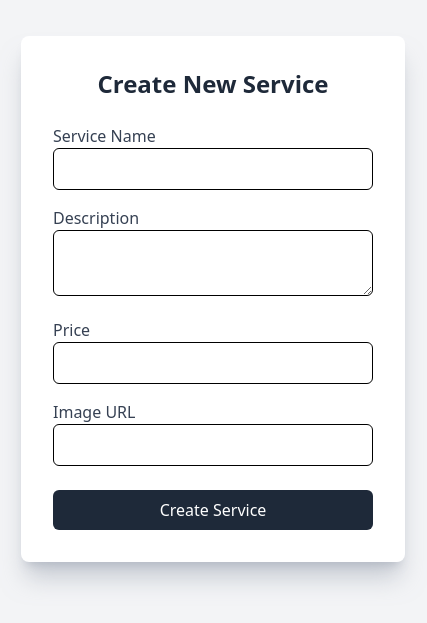
Test case: ServiceCreate component › should show submit error if service creation fails
Type "Valid Name" into the field labelled "Service Name". click: coordinates (213, 169)
box: [53, 148, 373, 190]
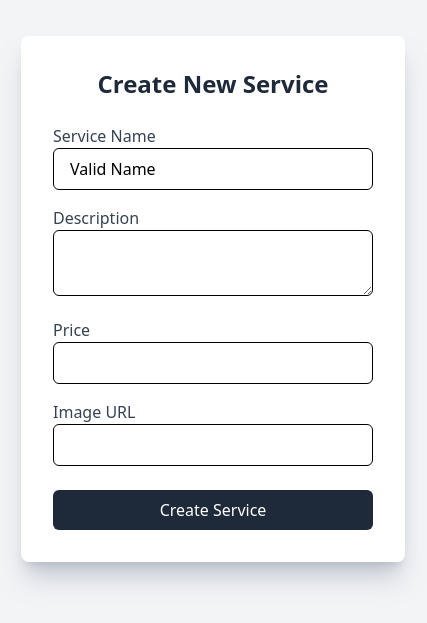
Type "Valid description text" into the text box labelled "Description". click: coordinates (213, 263)
box: [53, 230, 373, 296]
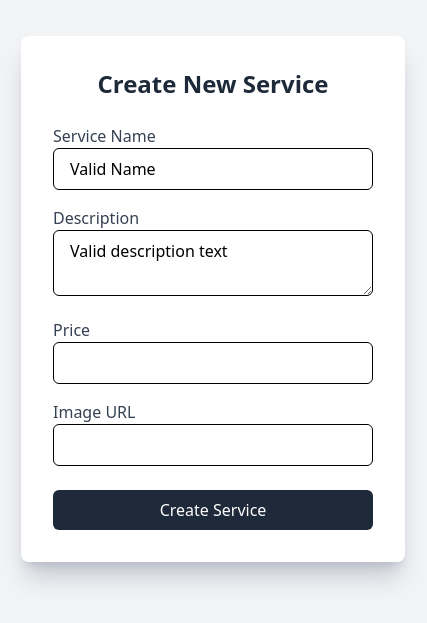
Type "10" into the number field labelled "Price". click: coordinates (213, 363)
box: [53, 342, 373, 384]
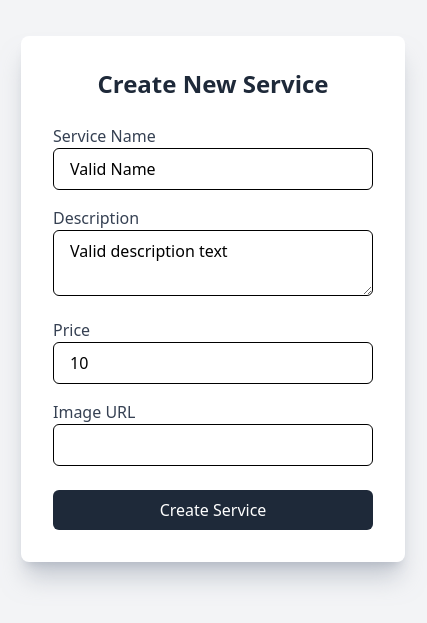
Type "http://example.com/image.jpg" into the field labelled "Image URL". click: coordinates (213, 445)
box: [53, 424, 373, 466]
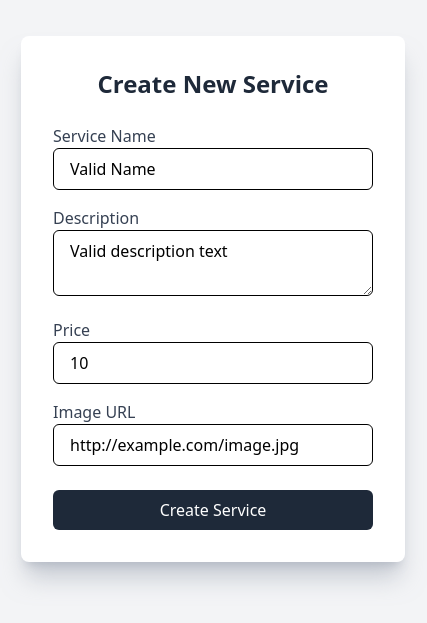
Click the button "Create Service". click: coordinates (213, 510)
box: [53, 490, 373, 530]
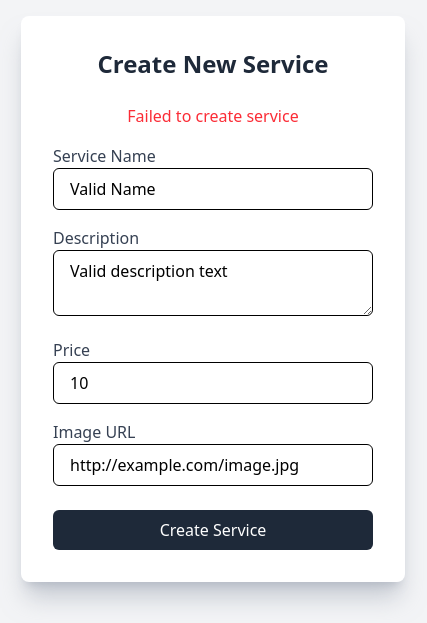
Now the text "Failed to create service" is shown, box [127, 105, 299, 127]
